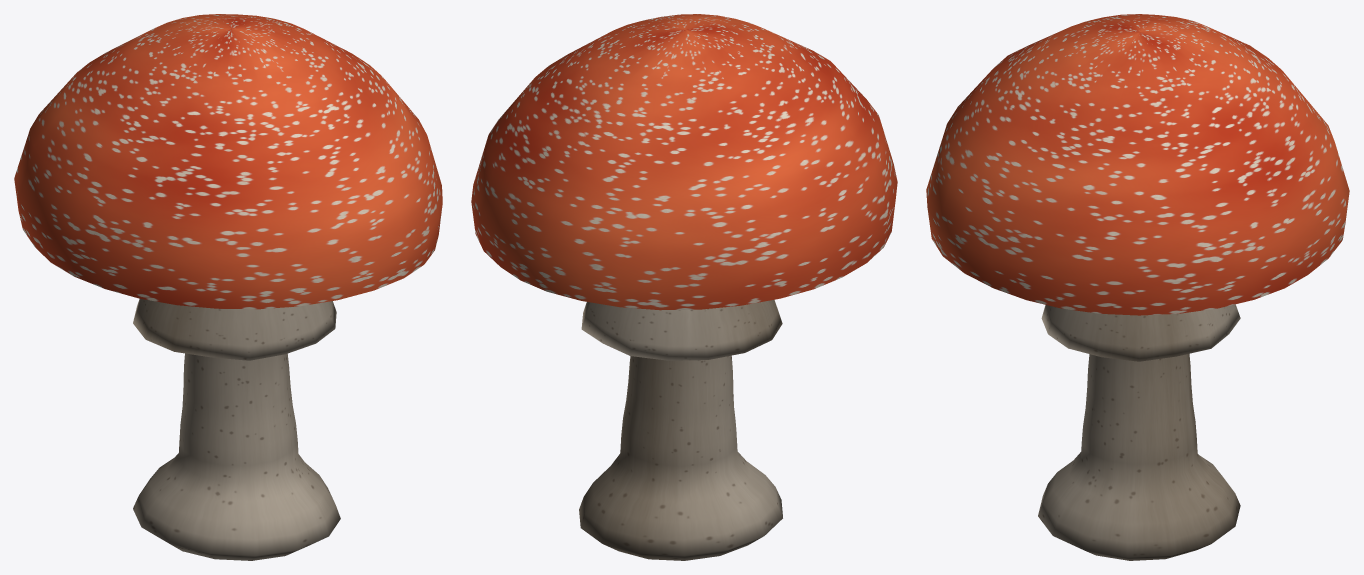
The model's file is mm6_deco_mushrm03.glb.
3 renders of one model, left to right at view 1: azimuth 30°, elevation 25°; view 2: azimuth 150°, elevation 25°; view 3: azimuth 270°, elevation 25°, orthographic. The views are drawn at different scales.
Parts seen in each view (by area): view 1: Mushrm03; view 2: Mushrm03; view 3: Mushrm03.
Part boxes in pixels (x1,y1,x2,y2): Mushrm03: (14,14,442,560); Mushrm03: (471,14,897,560); Mushrm03: (926,14,1349,560).
Bounding box in the file's own units: 0.7447 × 0.9726 × 0.7579.
Materials: 2 (2 with a texture image).
